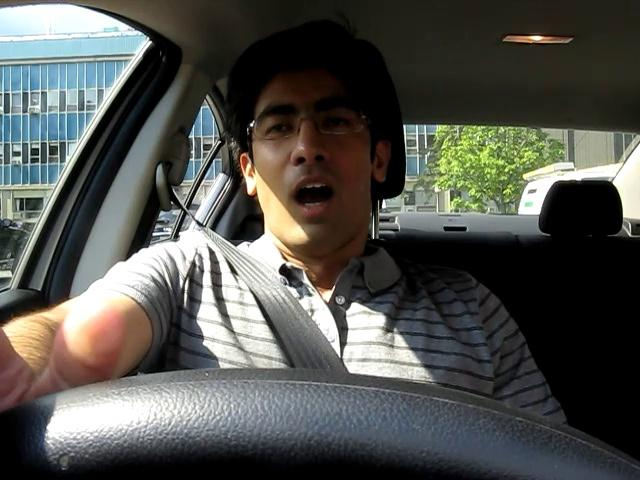close_eyeL: (252, 114, 305, 145)
close_eyeR: (307, 105, 367, 140)
yawn: (274, 172, 356, 222)
